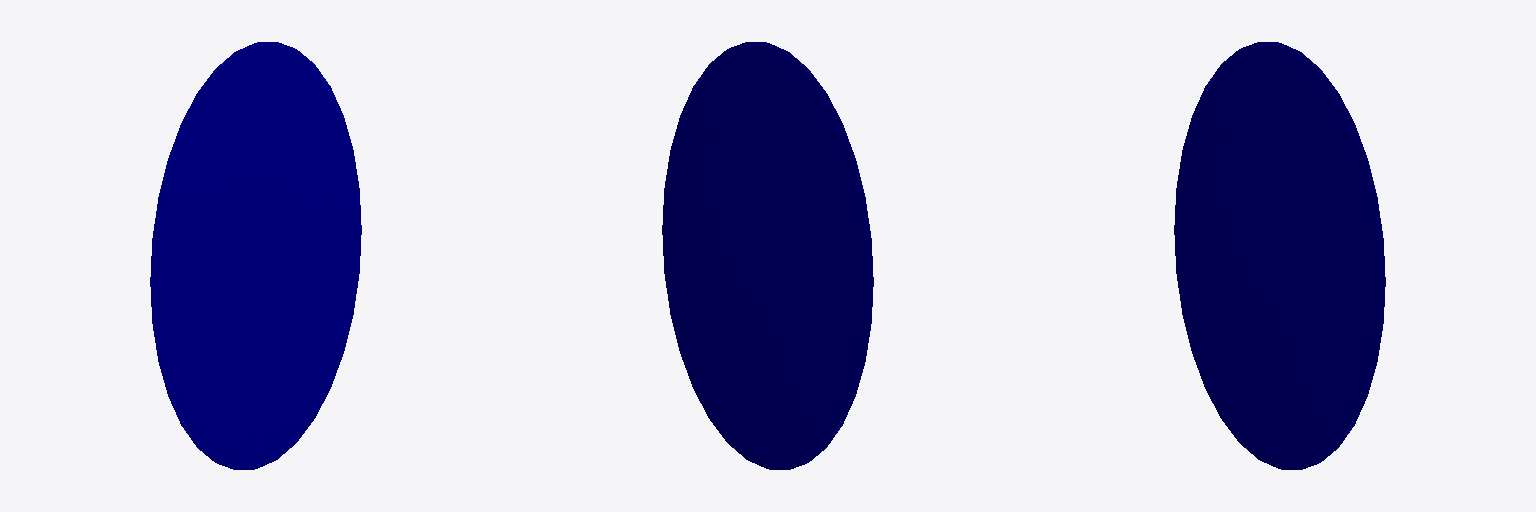
The model's file is BlueGate.obj.
3 renders of one model, left to right at view 1: azimuth 30°, elevation 25°; view 2: azimuth 150°, elevation 25°; view 3: azimuth 330°, elevation 25°, orthographic.
Visible parts, largest first — view 1: Sphere, Sphere.001; view 2: Sphere, Sphere.001; view 3: Sphere, Sphere.001.
Part boxes in pixels (x1,y1,x2,y2): Sphere: (159,42,353,469); Sphere.001: (150,42,361,469); Sphere: (670,42,864,469); Sphere.001: (662,42,873,469); Sphere: (1182,42,1376,469); Sphere.001: (1174,42,1385,469).
Bounding box in the file's own units: 1.04 × 2 × 0.02.